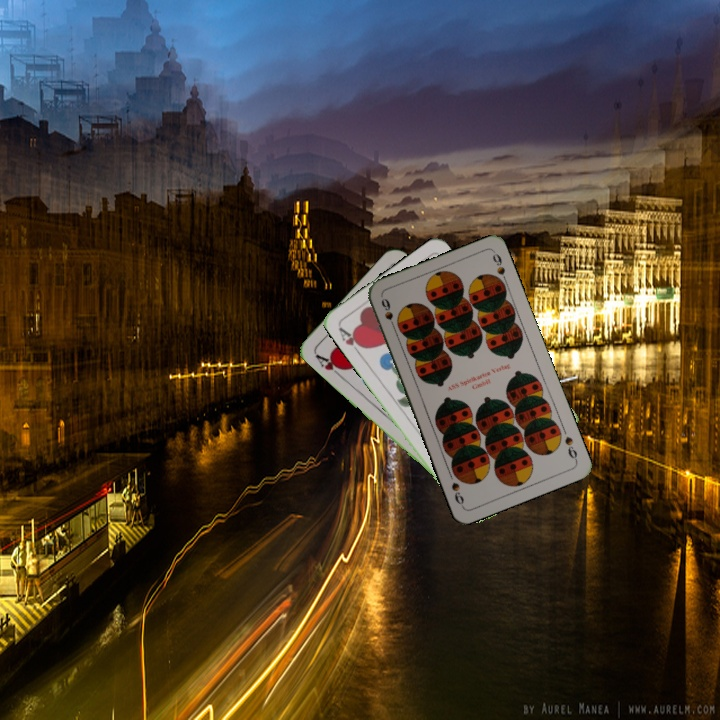HA: (334, 323, 368, 358), (312, 350, 348, 381)
S9: (377, 294, 398, 333), (561, 432, 580, 464)
